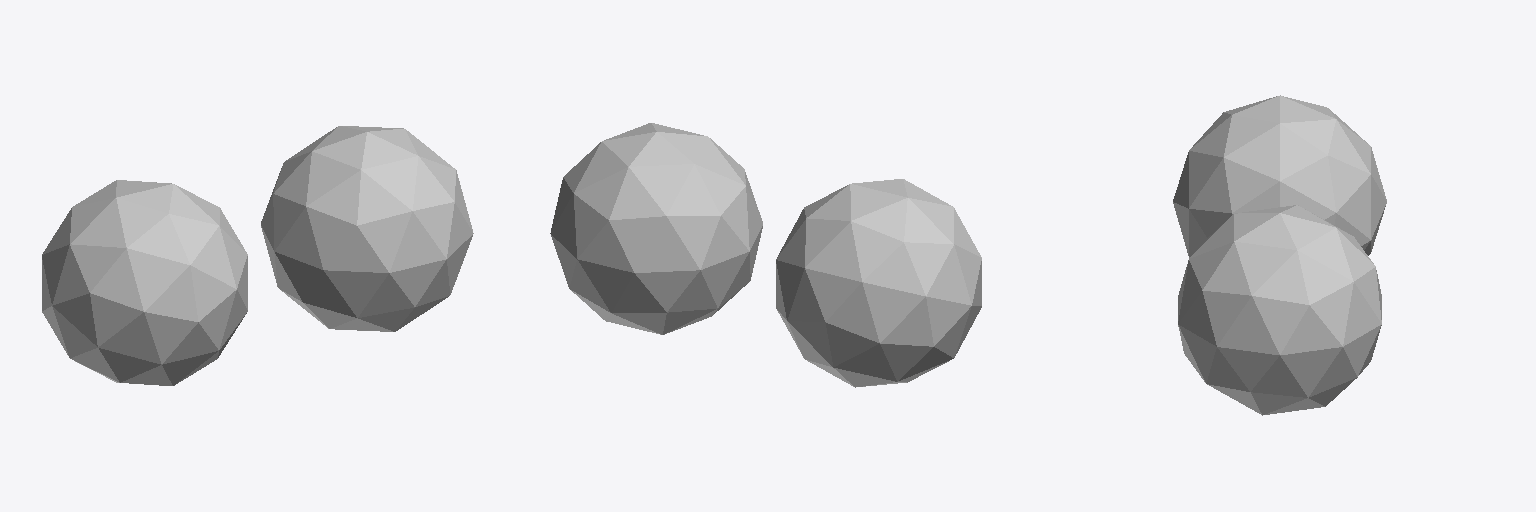
File: dwie_kule.obj
The picture shows the model from 3 angles: view 1: azimuth 30°, elevation 25°; view 2: azimuth 150°, elevation 25°; view 3: azimuth 270°, elevation 25°; orthographic projection.
Visible parts, largest first — view 1: Icosphere; view 2: Icosphere; view 3: Icosphere.
Part boxes in pixels (x1,y1,x2,y2): Icosphere: (42, 126, 473, 385); Icosphere: (550, 123, 981, 387); Icosphere: (1173, 95, 1386, 415).
Bounding box in the file's own units: 4.39 × 2 × 2.